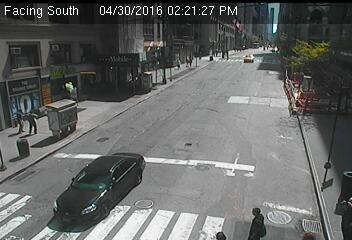neg: (112, 98, 147, 145), (84, 157, 115, 198), (42, 93, 71, 131), (203, 52, 231, 90), (231, 65, 257, 100), (302, 55, 328, 90), (302, 159, 327, 193), (133, 192, 158, 225), (35, 34, 59, 65), (113, 55, 136, 85), (190, 46, 203, 64)
pos: (248, 204, 271, 234), (11, 105, 30, 131), (28, 110, 45, 133)
